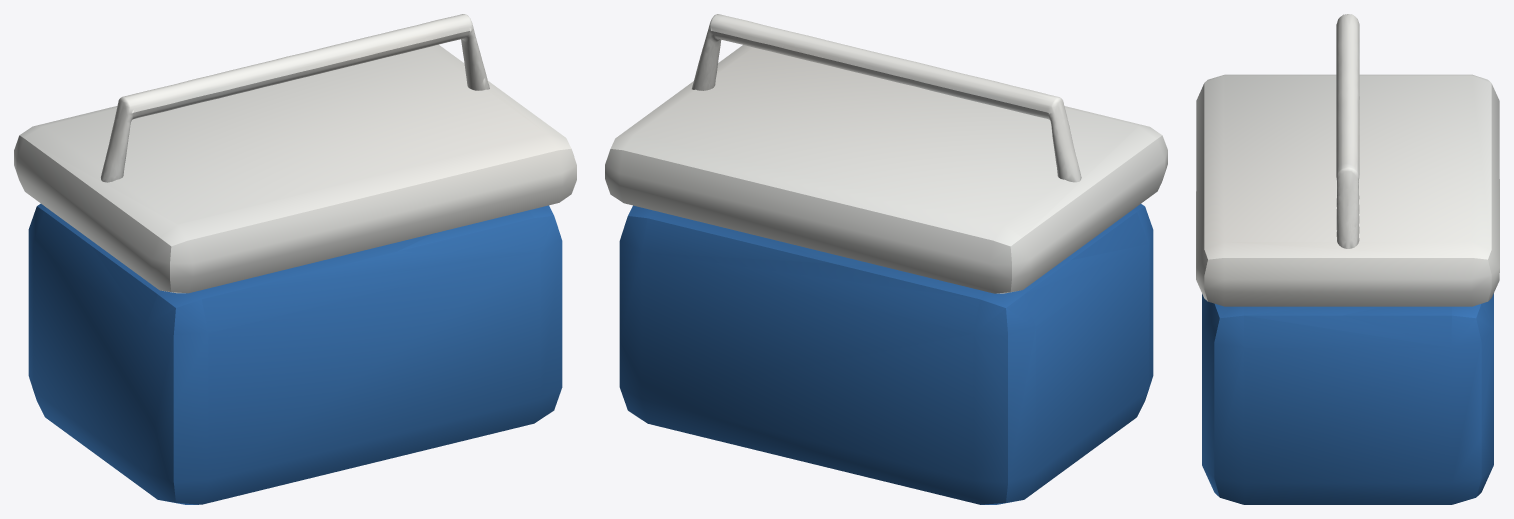
Rendered from shore_cooler.glb.
3 renders of one model, left to right at view 1: azimuth 30°, elevation 25°; view 2: azimuth 150°, elevation 25°; view 3: azimuth 270°, elevation 25°, orthographic. The views are drawn at different scales.
Visible parts, largest first — view 1: shore_cooler; view 2: shore_cooler; view 3: shore_cooler.
Boxes of the visible parts, left/top/right/bottom form: shore_cooler: left=14, top=14, right=576, bottom=504; shore_cooler: left=605, top=14, right=1167, bottom=504; shore_cooler: left=1196, top=14, right=1499, bottom=504.
Size of the model in its own units: 15.4 by 12.79 by 10.4.
